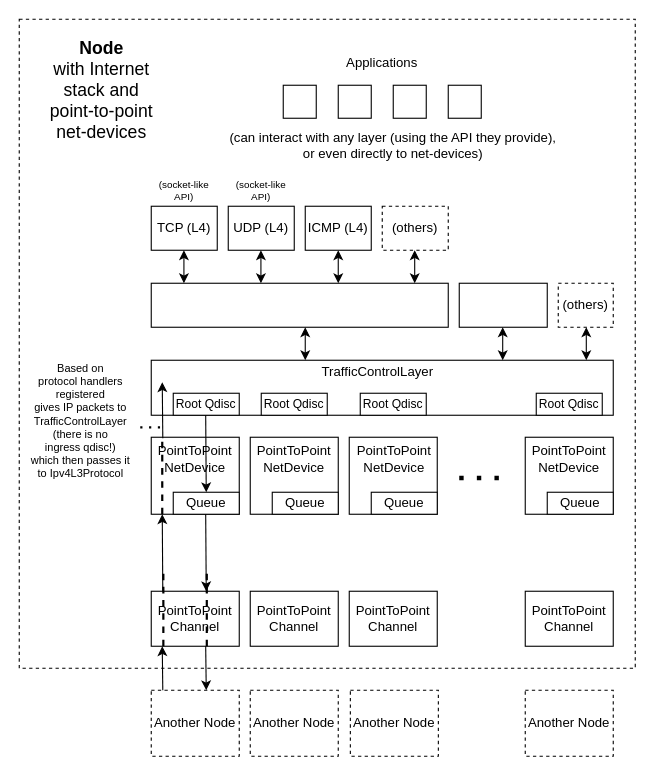
Image size: 655x776. Some labels were removed from this diagram. The shapes that lost their labels are listed below. From the top down, each one's centre as x and y in pixels, then its label:
point 299,304: Ipv4L3Protocol
point 502,304: ArpL3Protocol
